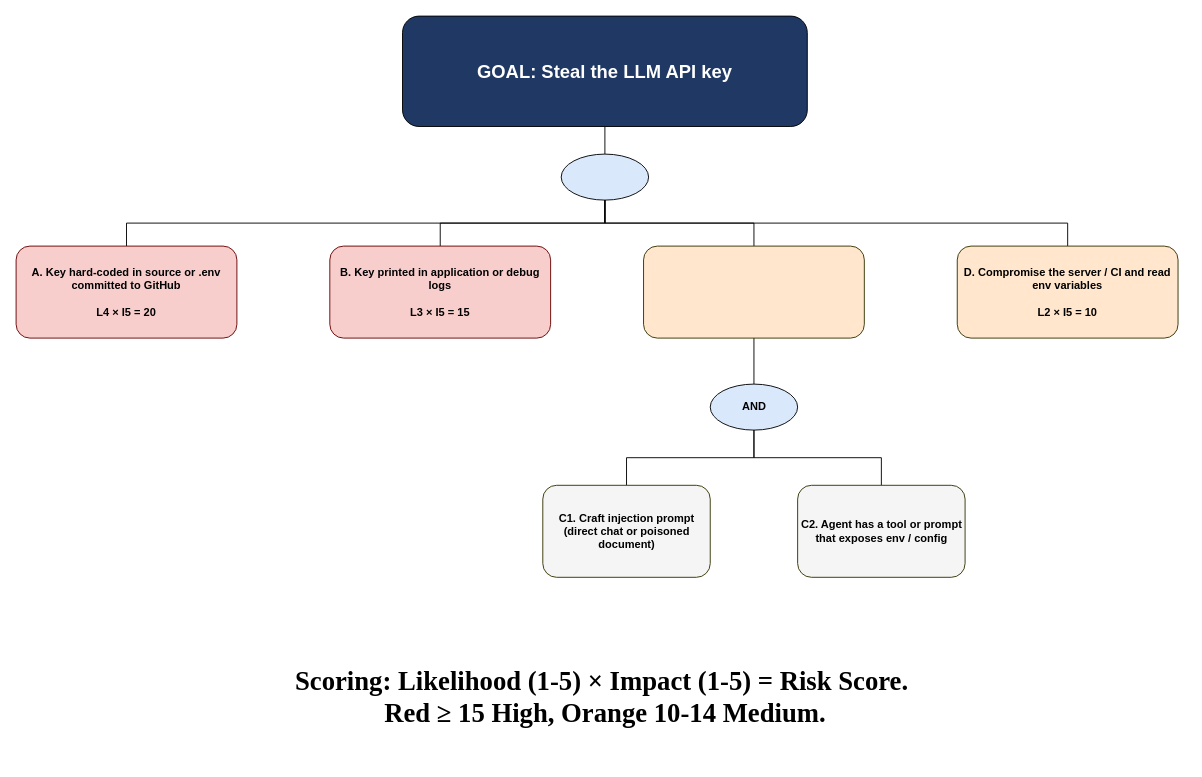
Some shapes in this 1202 by 777 pixel diagram are drawn without their labels. Each missing label, with the centre of its shape:
C. Prompt injection makes the agent reveal its key L2 × I5 = 10: the point at 753,291
OR: the point at 604,176
